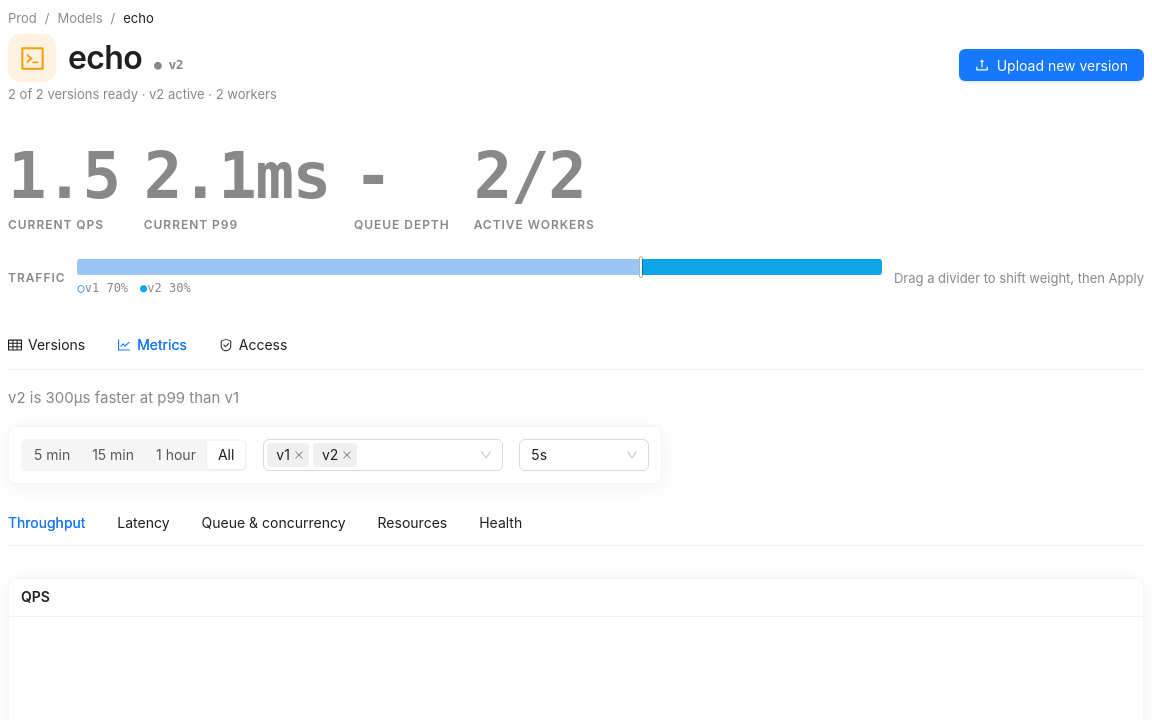
ModelDetailPage version cards › should_render_a_card_per_version_with_weight_and_current_metrics
What coordinates should you click on to do the following:
click the tab "Versions"
I would click on:
 (47, 346)
Its box is [8,334,85,358].
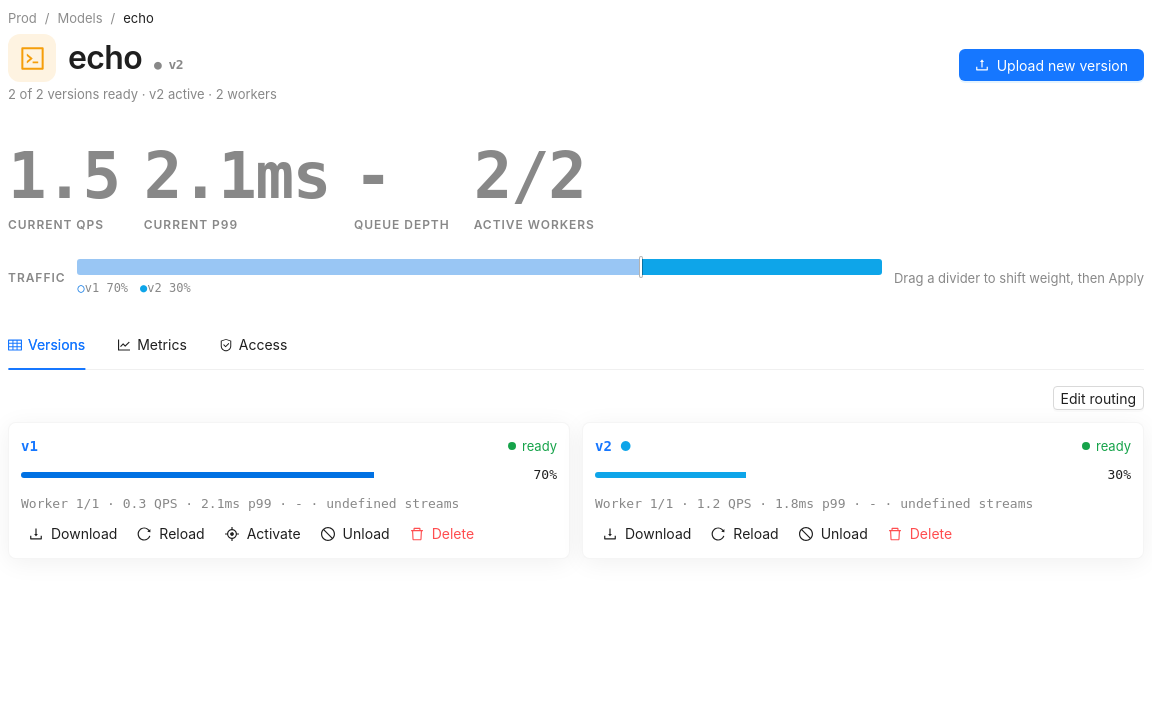
Expected: the text "70%" is shown, [534,465,557,486]
Expected: the text "30%" is shown, [1108,465,1131,486]
Expected: the text "Worker 1/1 · 0.3 QPS · 2.1ms p99 · - · undefined streams" is shown, [21,496,459,510]
